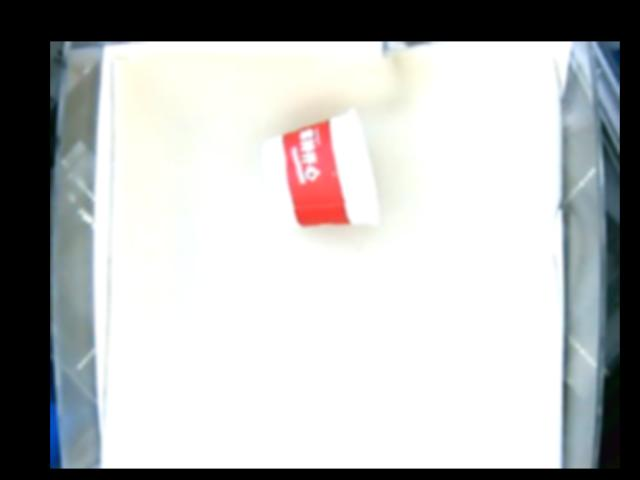Cup: (262, 107, 380, 226)
